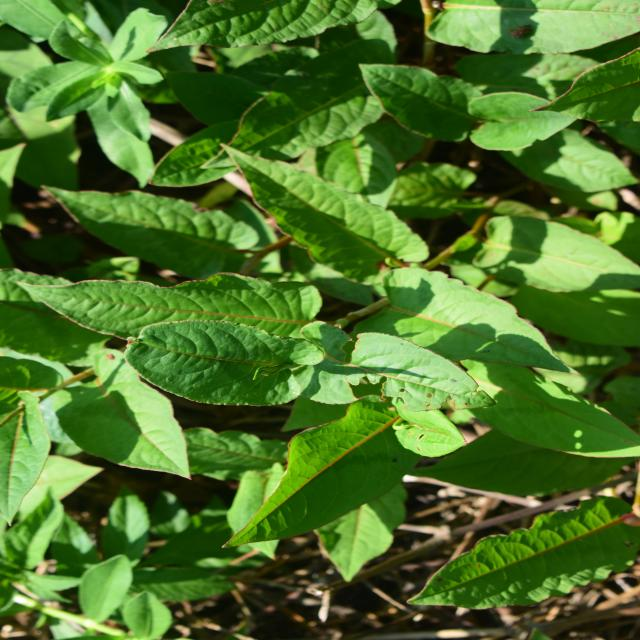Chinese_knotweed: (222, 55, 454, 502)
